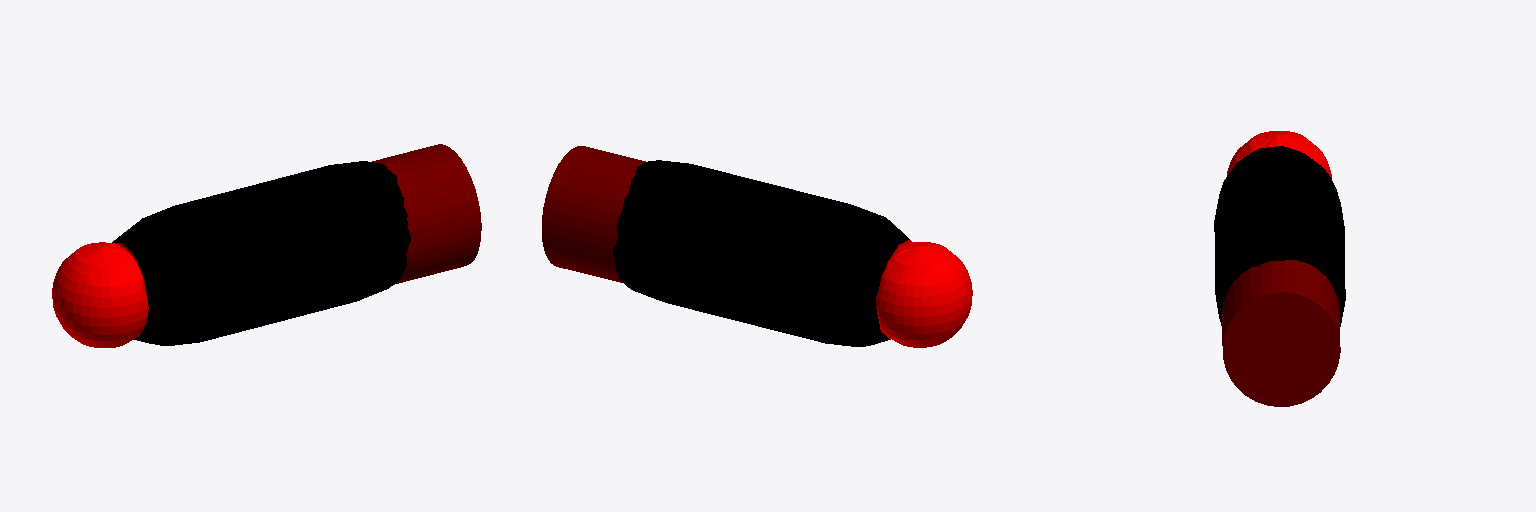
The model's file is dauber2.obj.
3 renders of one model, left to right at view 1: azimuth 30°, elevation 25°; view 2: azimuth 150°, elevation 25°; view 3: azimuth 270°, elevation 25°, orthographic.
Parts seen in each view (by area): view 1: Mesh; view 2: Mesh; view 3: Mesh.
Boxes of the visible parts, box(x1,y1,x2,y2) form: Mesh: box(52, 144, 481, 347); Mesh: box(542, 146, 972, 347); Mesh: box(1214, 131, 1345, 406).
Size of the model in its own units: 6.72 by 2.16 by 1.94.